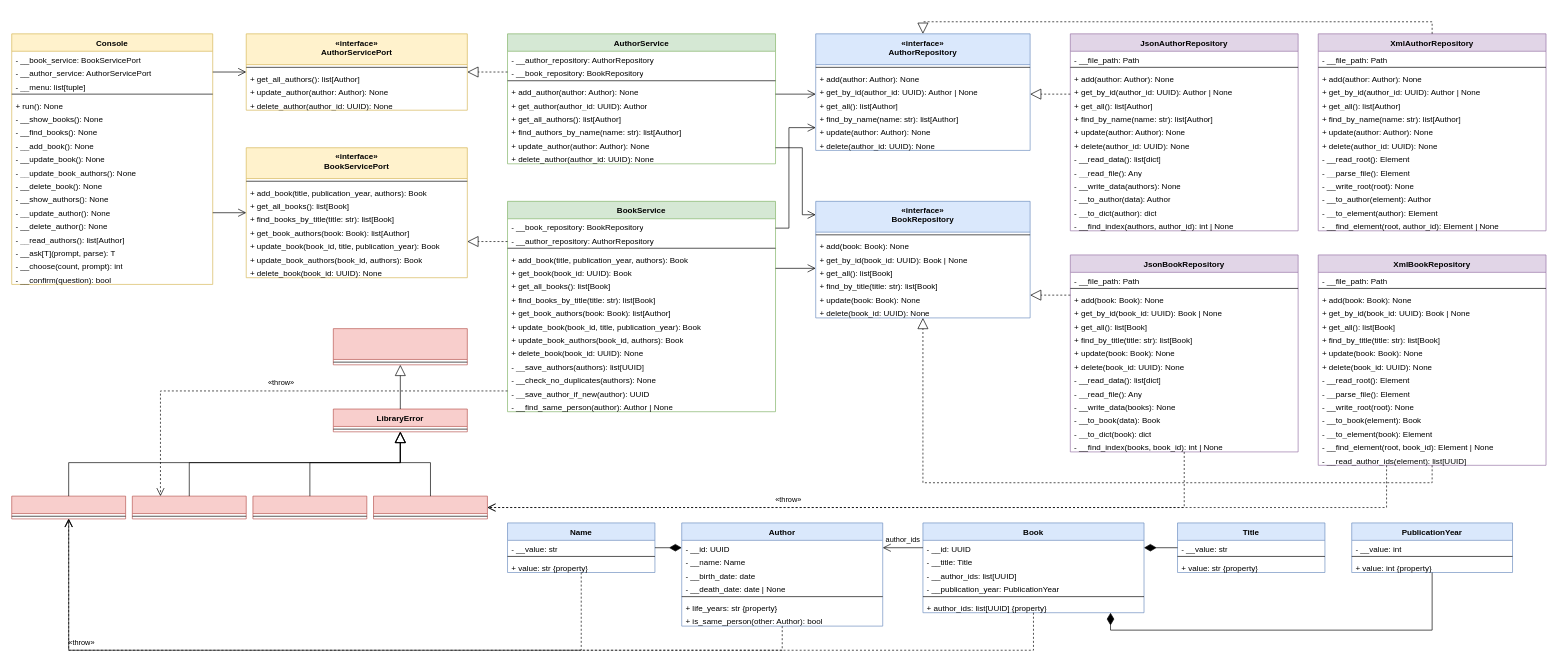
This 1558x670 diagram has some shape labels left out. Here are the shapes that lost their labels. From the top down, the centre of each, then its label:
At (x=400, y=346): "«встроенный» Exception".
At (x=68, y=507): "ValidationError".
At (x=189, y=507): "NotFoundError".
At (x=309, y=507): "AlreadyExistsError".
At (x=430, y=507): "StorageError".
